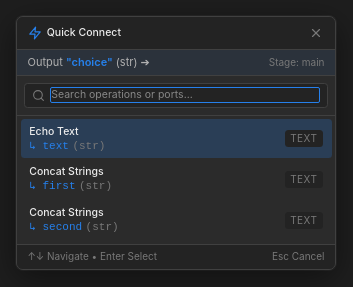
Test: QuickConnectPopover component › filters list by search input query
In the field with test id "input-quick-connect-search": [185, 95] box [50, 87, 320, 103], type "Concat"
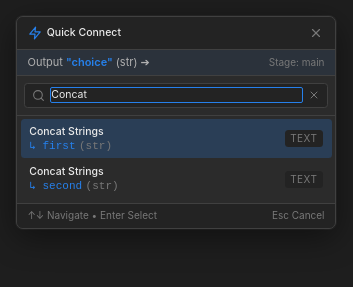
Expected: the button "Echo Text" is gone
Expected: the text "Concat Strings" is shown 2 times, [29, 124, 112, 138]; [29, 166, 104, 178]
